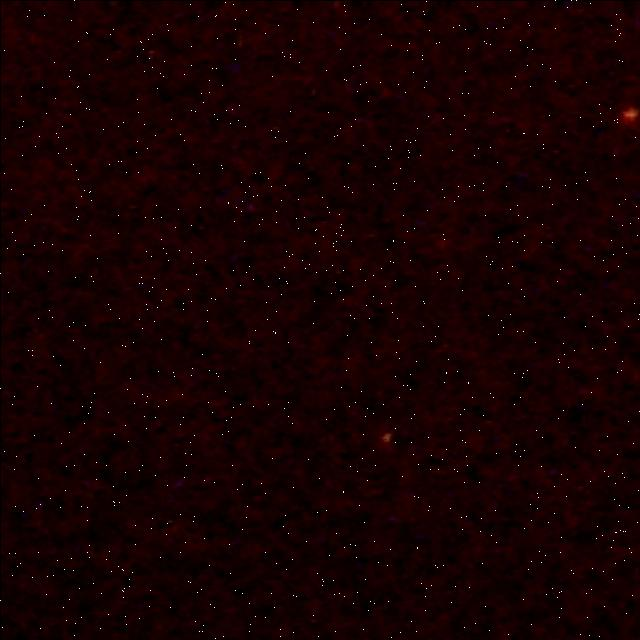Fragment: (619, 105, 640, 123)
